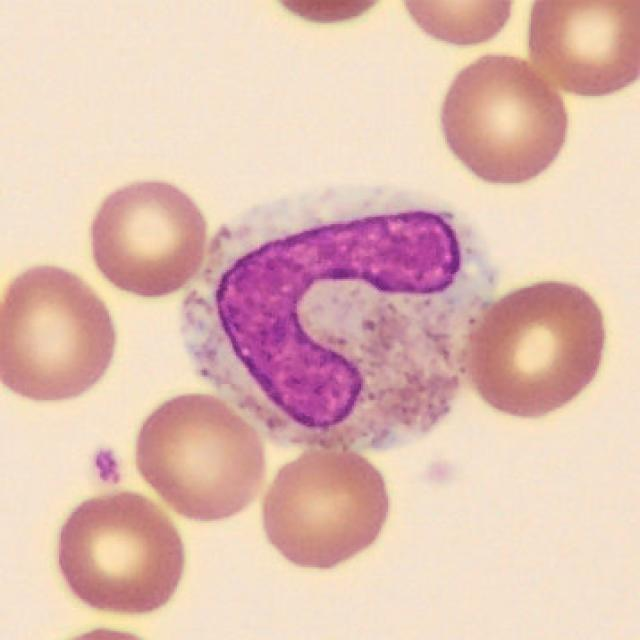Bastonete: (177, 185, 495, 453)
